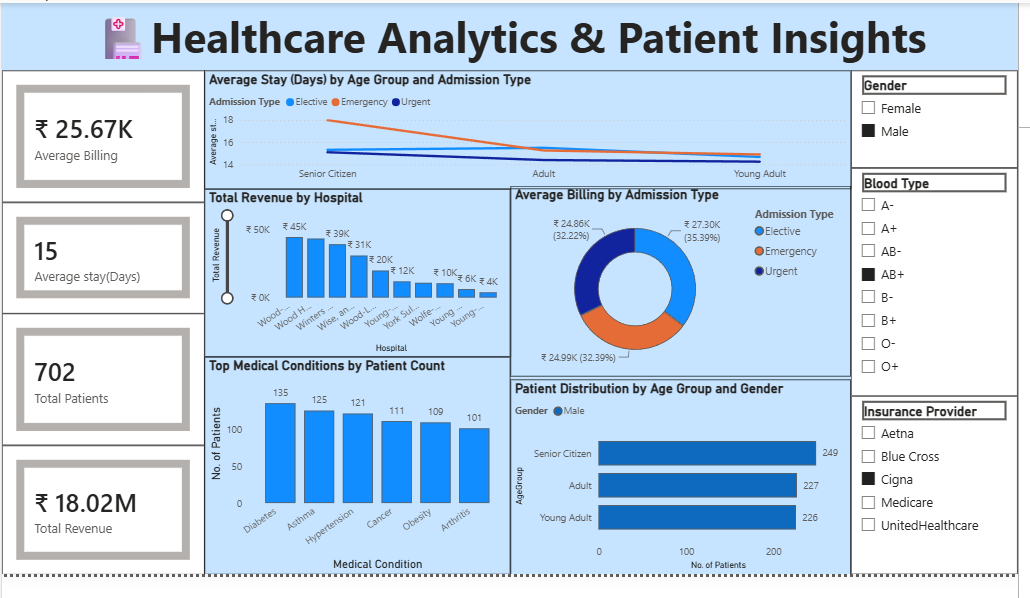

Layout of this report page (visuals, bound fields, positions):
{"tool":"powerbi","page":{"name":"Page 1","canvas":[1280,720],"ordinal":0},"visuals":[{"type":"cardVisual","fields":{"Data":["healthcare_dataset.Avg Billing"]},"box":[0,85,255.1,166.3],"z":0},{"type":"cardVisual","fields":{"Data":["healthcare_dataset.Avg stay"]},"box":[0,251.3,255.1,139.8],"z":1000},{"type":"cardVisual","title":"PA","fields":{"Data":["healthcare_dataset.Total Patients"]},"box":[0,391.2,255.1,166.3],"z":2000},{"type":"cardVisual","fields":{"Data":["healthcare_dataset.Total revenue"]},"box":[0,557.5,255.1,162.5],"z":3000},{"type":"slicer","fields":{"Values":["healthcare_dataset.Blood Type"]},"box":[1069.6,207.9,209.8,287.2],"z":4000},{"type":"slicer","fields":{"Values":["healthcare_dataset.Insurance Provider"]},"box":[1069.6,495.1,209.8,224.9],"z":5000},{"type":"slicer","fields":{"Values":["healthcare_dataset.Gender"]},"box":[1069.6,85,209.8,122.8],"z":6000},{"type":"textbox","box":[0,0,1279.4,85],"z":7000},{"type":"clusteredColumnChart","fields":{"Y":["healthcare_dataset.Total revenue"],"Category":["healthcare_dataset.Hospital"]},"box":[255.1,234.3,385.5,211.7],"z":8000},{"type":"clusteredBarChart","title":"Patient Distribution by Age Group and Gender","fields":{"Category":["healthcare_dataset.AgeGroup"],"Y":["CountNonNull(healthcare_dataset.First name)"],"Series":["healthcare_dataset.Gender"]},"box":[640.6,474.3,429,245.7],"z":9000},{"type":"columnChart","title":"Top Medical Conditions by Patient Count","fields":{"Category":["healthcare_dataset.Medical Condition"],"Y":["CountNonNull(healthcare_dataset.Name)"]},"box":[255.1,446,385.5,274],"z":10000},{"type":"donutChart","fields":{"Category":["healthcare_dataset.Admission Type"],"Y":["healthcare_dataset.Avg Billing"]},"box":[640.6,230.6,429,240],"z":11000},{"type":"lineChart","title":"Average Stay (Days) by Age Group and Admission Type","fields":{"Y":["healthcare_dataset.Avg stay"],"Category":["healthcare_dataset.AgeGroup"],"Series":["healthcare_dataset.Admission Type"]},"box":[255.1,85,814.5,149.3],"z":12000}]}

Visuals, with their boxes in screenshot pixels (x1, y1, x2, y2):
cardVisual - healthcare_dataset.Avg Billing: [0,70,202,202]
cardVisual - healthcare_dataset.Avg stay: [0,202,202,313]
"PA" cardVisual: [0,313,202,445]
cardVisual - healthcare_dataset.Total revenue: [0,445,202,574]
slicer - healthcare_dataset.Blood Type: [849,168,1015,396]
slicer - healthcare_dataset.Insurance Provider: [849,396,1015,574]
slicer - healthcare_dataset.Gender: [849,70,1015,168]
textbox: [0,3,1015,70]
clusteredColumnChart - healthcare_dataset.Total revenue x healthcare_dataset.Hospital: [202,189,508,357]
"Patient Distribution by Age Group and Gender" clusteredBarChart: [508,379,849,574]
"Top Medical Conditions by Patient Count" columnChart: [202,357,508,574]
donutChart - healthcare_dataset.Admission Type x healthcare_dataset.Avg Billing: [508,186,849,376]
"Average Stay (Days) by Age Group and Admission Type" lineChart: [202,70,849,189]
